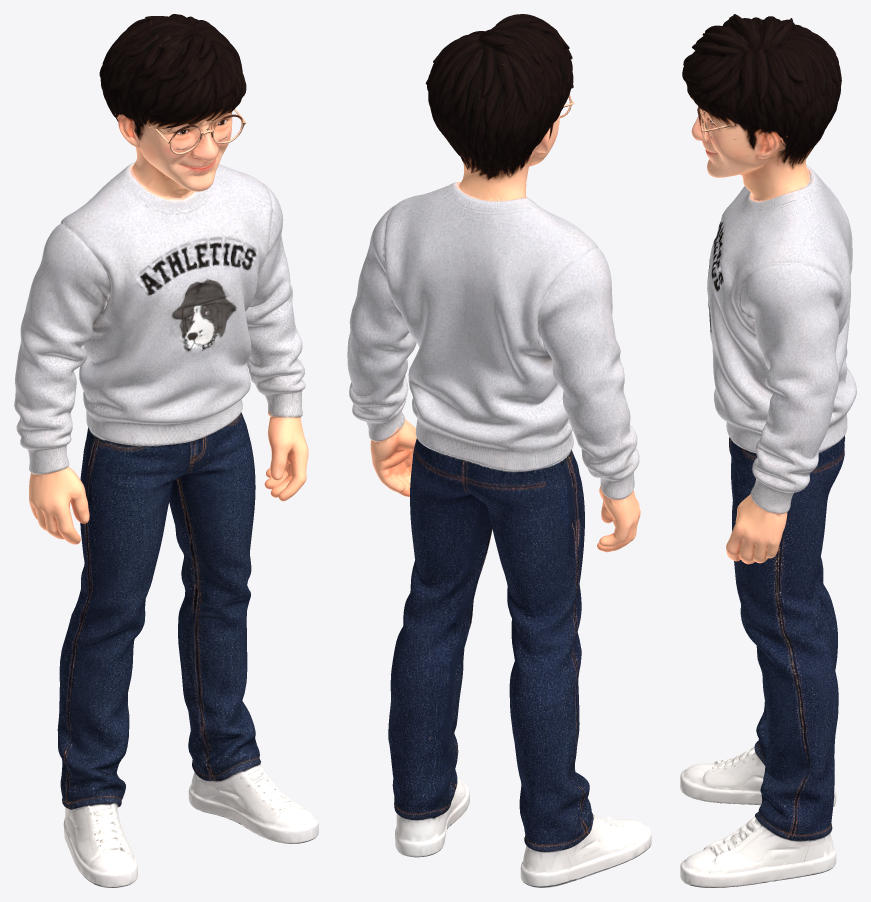
Rendered from kim-jongseop.glb.
The picture shows the model from 3 angles, left to right: view 1: azimuth 30°, elevation 25°; view 2: azimuth 150°, elevation 25°; view 3: azimuth 270°, elevation 25°; orthographic projection.
Size of the model in its own units: 0.6736 by 1.9 by 0.3736.
Materials: 1 (1 with a texture image).
